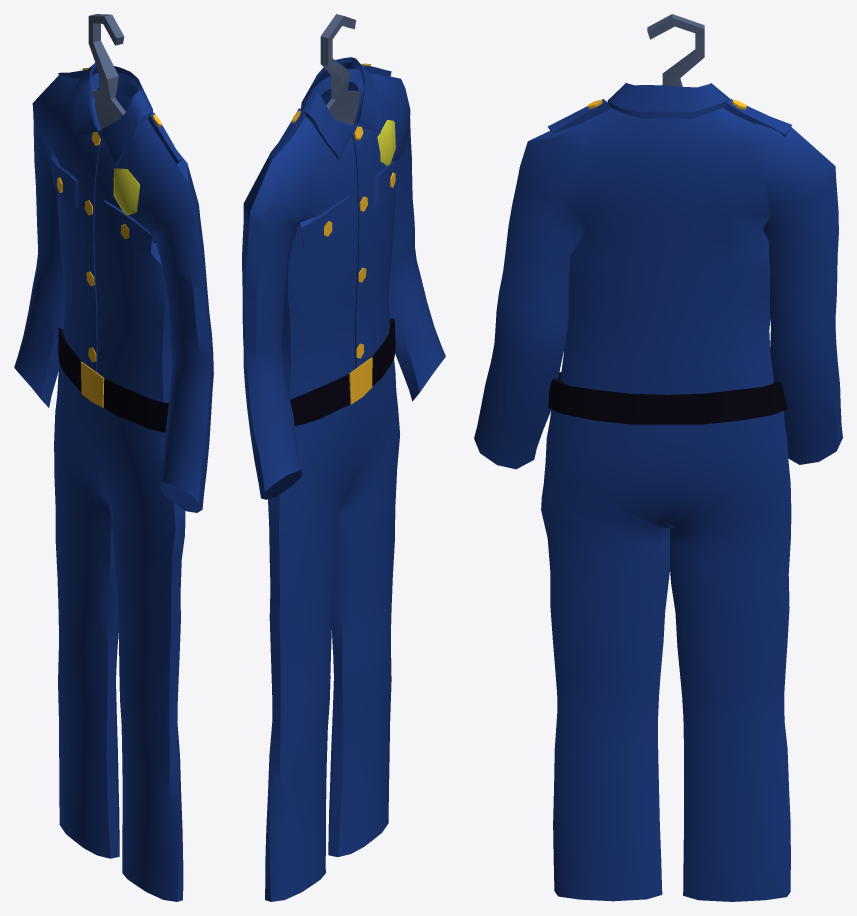
Rendered from costume_police.fbx.
3 views of the same model, side by side, from view 1: azimuth 30°, elevation 25°; view 2: azimuth 150°, elevation 25°; view 3: azimuth 270°, elevation 25° (orthographic). The views are drawn at different scales.
Visible parts, largest first — view 1: costume_police; view 2: costume_police; view 3: costume_police.
Part boxes in pixels (left/top/right/bottom): costume_police: left=14, top=14, right=213, bottom=901; costume_police: left=242, top=14, right=445, bottom=901; costume_police: left=474, top=14, right=842, bottom=901.
Bounding box in the file's own units: 0.2554 × 3.52 × 1.35.
